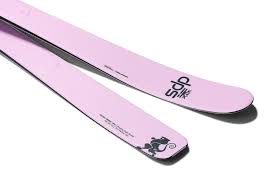skis: (1, 1, 254, 165)
